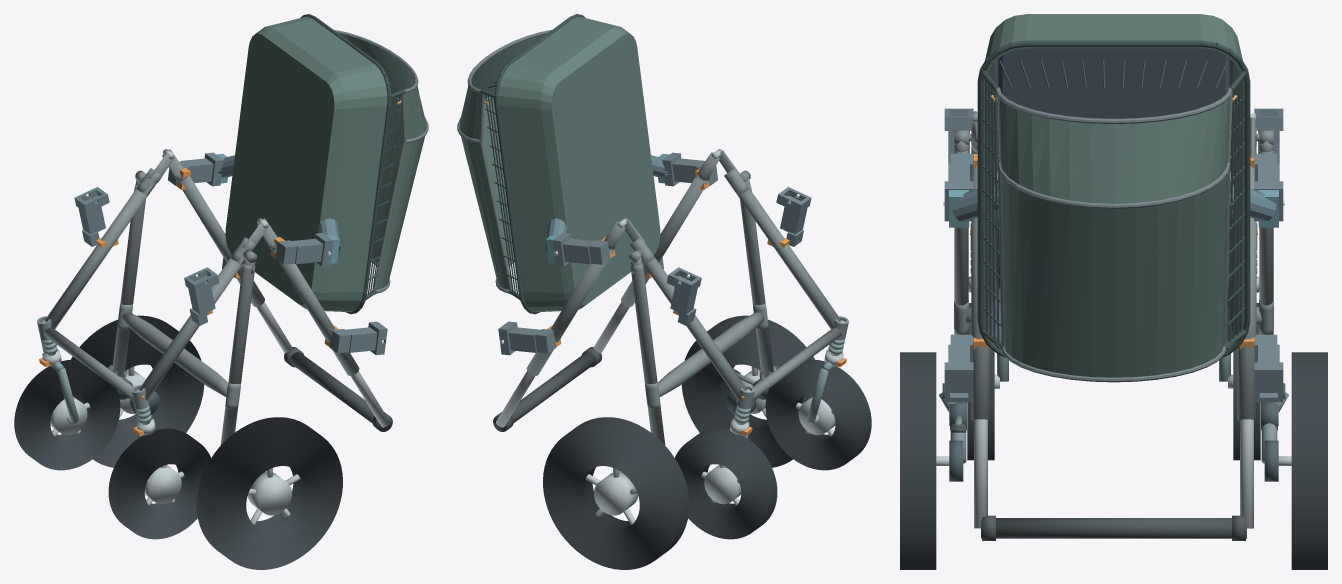
File: S03_w550_state3_wheel_L.glb
3 renders of one model, left to right at view 1: azimuth 30°, elevation 25°; view 2: azimuth 150°, elevation 25°; view 3: azimuth 270°, elevation 25°, orthographic. The views are drawn at different scales.
Parts seen in each view (by area): view 1: S03_Cabin, RL_tire.002, FR_tire.002, FL_tire.002, RR_tire.002, main_lower_1.003, V46_rear_leg_-1.003, V46_rear_leg_1.003, V46_rearbar.003, main_lower_-1.003, main_upper_-1.003, round_handle.002 (+13 smaller); view 2: S03_Cabin, RR_tire.002, FL_tire.002, FR_tire.002, RL_tire.002, main_lower_-1.003, V46_rear_leg_1.003, V46_rear_leg_-1.003, V46_rearbar.003, main_lower_1.003, main_upper_1.003, round_handle.002 (+13 smaller); view 3: S03_Cabin, RL_tire.002, RR_tire.002, round_handle.002, main_upper_1.003, main_upper_-1.003, S03_Cabin_Mount_M, Universal_Cabin_Receiver_H_1, Universal_Cabin_Receiver_H_-1, handle_slider_1.002, handle_slider_-1.002, V46_rear_leg_1.003 (+9 smaller).
Boxes of the visible parts, x1,y1,x2,y2 form: S03_Cabin: [225, 14, 428, 314]; RL_tire.002: [196, 417, 342, 569]; FR_tire.002: [14, 359, 120, 470]; FL_tire.002: [108, 428, 210, 539]; RR_tire.002: [71, 315, 204, 467]; main_lower_1.003: [45, 183, 154, 329]; V46_rear_leg_-1.003: [220, 263, 255, 445]; V46_rear_leg_1.003: [112, 184, 145, 376]; V46_rearbar.003: [121, 312, 227, 396]; main_lower_-1.003: [139, 257, 244, 400]; main_upper_-1.003: [271, 249, 359, 375]; round_handle.002: [290, 352, 391, 430]; S03_Cabin: [457, 14, 660, 314]; RR_tire.002: [543, 417, 689, 569]; FL_tire.002: [765, 359, 871, 470]; FR_tire.002: [675, 428, 777, 539]; RL_tire.002: [681, 315, 814, 467]; main_lower_-1.003: [731, 183, 840, 329]; V46_rear_leg_1.003: [630, 263, 665, 445]; V46_rear_leg_-1.003: [740, 184, 773, 376]; V46_rearbar.003: [658, 312, 764, 396]; main_lower_1.003: [641, 257, 746, 400]; main_upper_1.003: [526, 249, 614, 375]; round_handle.002: [494, 352, 595, 430]; S03_Cabin: [977, 14, 1250, 382]; RL_tire.002: [900, 352, 936, 569]; RR_tire.002: [1291, 352, 1327, 569]; round_handle.002: [981, 518, 1246, 538]; main_upper_1.003: [1237, 163, 1256, 420]; main_upper_-1.003: [971, 163, 990, 420]; S03_Cabin_Mount_M: [943, 171, 1284, 227]; Universal_Cabin_Receiver_H_1: [1254, 334, 1283, 402]; Universal_Cabin_Receiver_H_-1: [944, 334, 973, 402]; handle_slider_1.002: [1240, 419, 1253, 528]; handle_slider_-1.002: [974, 419, 987, 528]; V46_rear_leg_1.003: [1259, 150, 1273, 334].
Bounding box in the file's own units: 0.937 × 1.13 × 0.7071.
